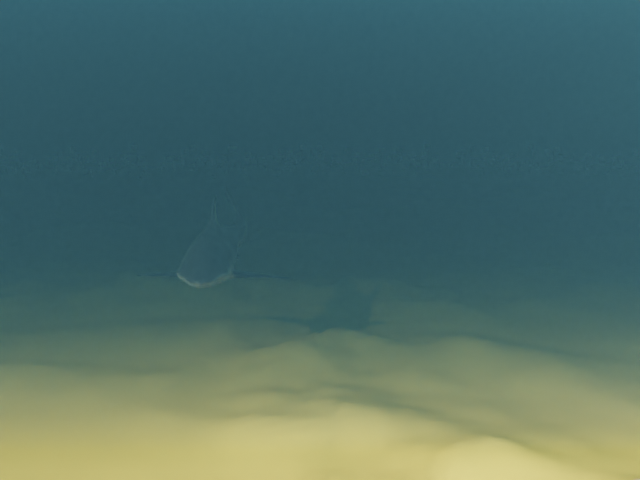Carribean Shark.001: (135, 185, 292, 287)
